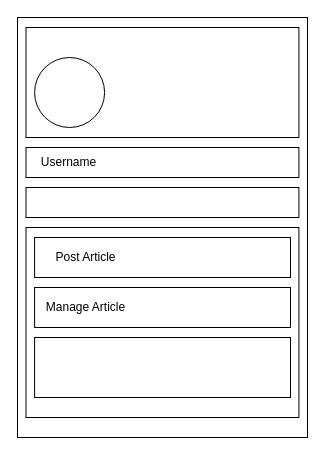
The diagram is 325 pixels wide and 455 high, and some of its shapes have lost their labels. The centre of each missing label's shape, as x and y in pixels:
Quit Login: [162,367]
User Avatar: [69,92]
